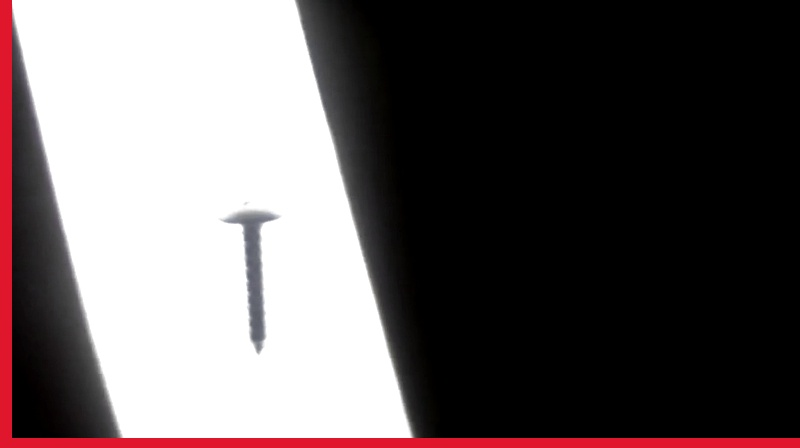S003: (214, 193, 286, 357)
